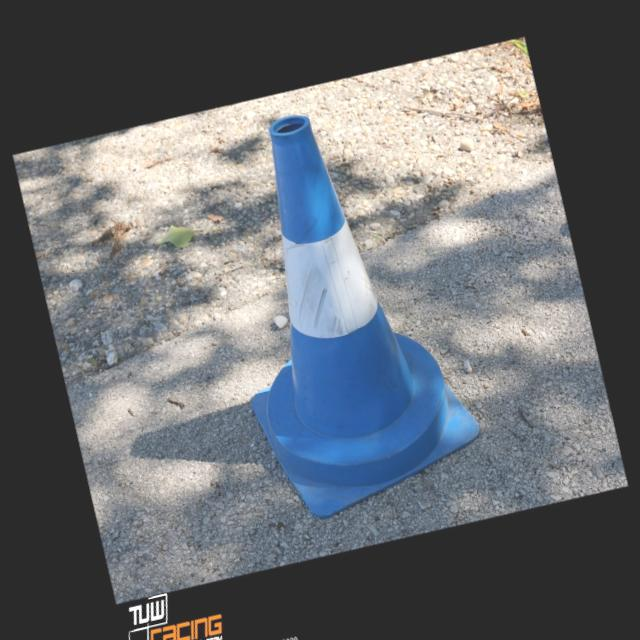blue_cone: (191, 91, 488, 524)
